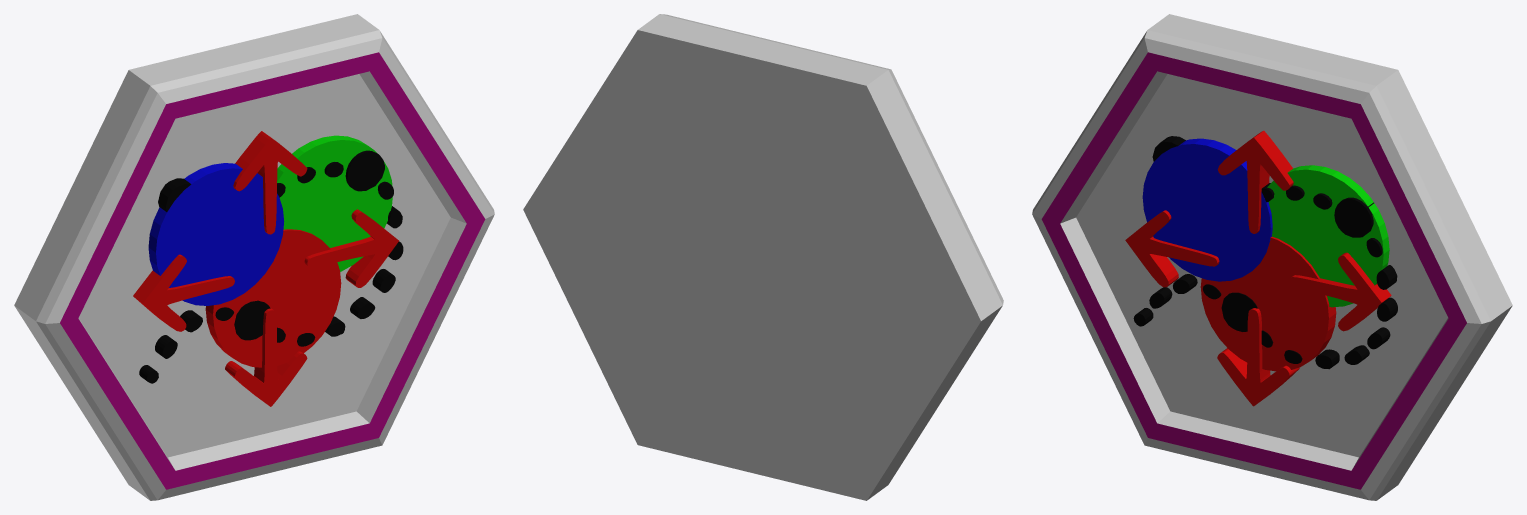
Rendered from hamiltonian.dae.
3 renders of one model, left to right at view 1: azimuth 30°, elevation 25°; view 2: azimuth 150°, elevation 25°; view 3: azimuth 330°, elevation 25°, orthographic.
Visible parts, largest first — view 1: node, kColor, Planar; view 2: node; view 3: node, kColor, Planar.
Part boxes in pixels (<box>): node: <box>14,14,494,500</box>; kColor: <box>148,135,392,367</box>; Planar: <box>133,131,398,406</box>; node: <box>523,14,1003,500</box>; node: <box>1032,14,1512,500</box>; kColor: <box>1142,138,1389,371</box>; Planar: <box>1125,130,1391,406</box>.
Bounding box in the file's own units: 2 × 0.2228 × 1.73.
